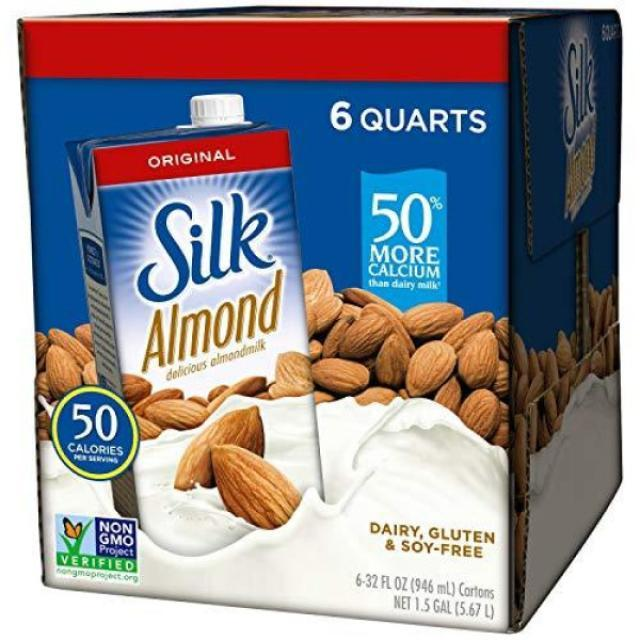Tetra: (65, 116, 332, 562)
